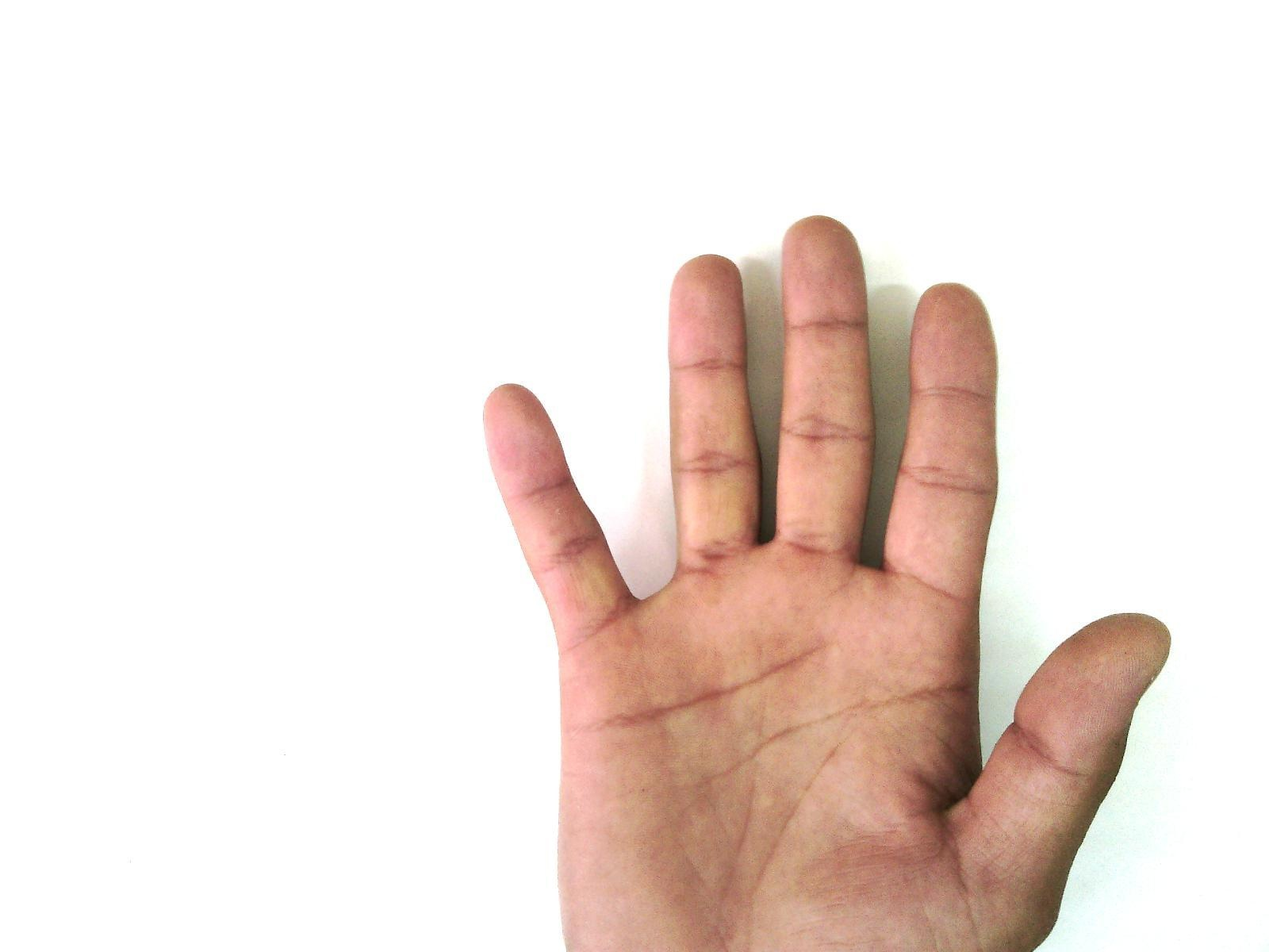open_palm: (480, 213, 1173, 951)
